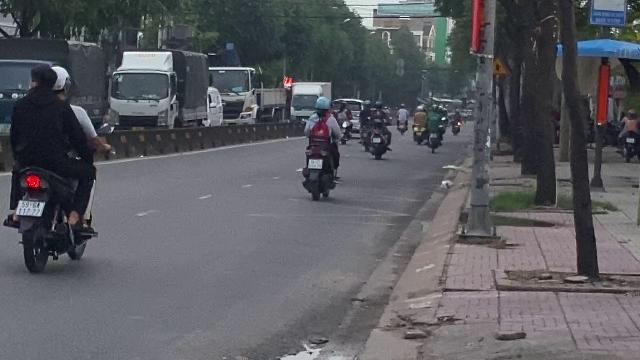helmet: (50, 65, 70, 99), (315, 97, 331, 113)
licenseplate: (16, 200, 44, 216), (309, 159, 323, 169)
motorcyclist: (0, 61, 102, 273), (298, 96, 344, 198)
nohelmet: (28, 64, 56, 93)
